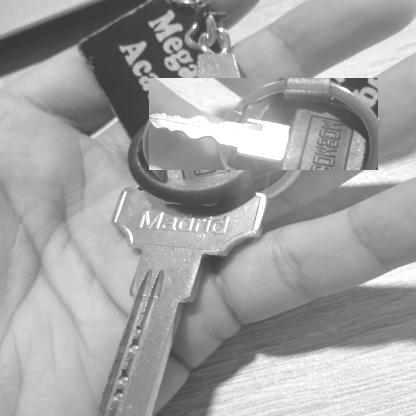key: (108, 174, 254, 416), (149, 78, 378, 170)
